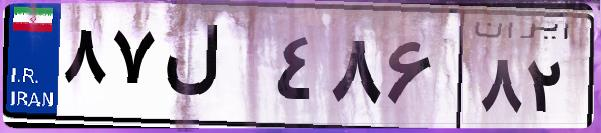2: (525, 38, 570, 115)
4: (270, 28, 330, 110)
6: (385, 28, 445, 110)
7: (110, 28, 158, 98)
8: (330, 28, 385, 110), (57, 26, 110, 100), (475, 38, 525, 113)
ل: (158, 20, 270, 120)
